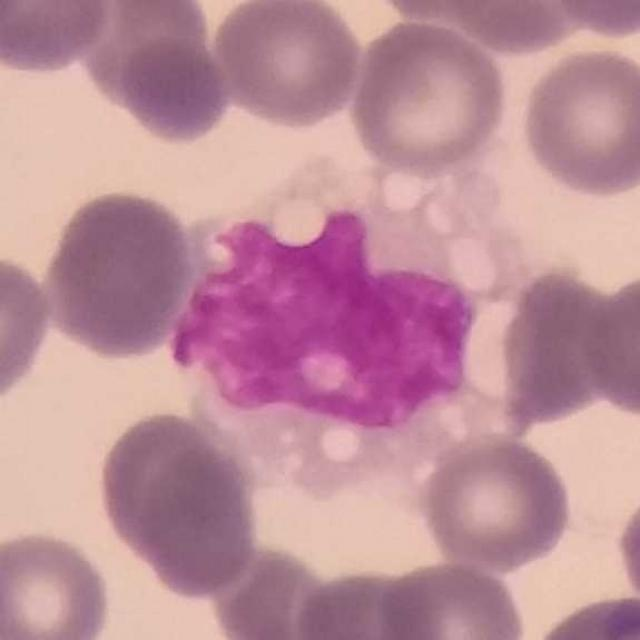mono: (166, 141, 548, 504)
